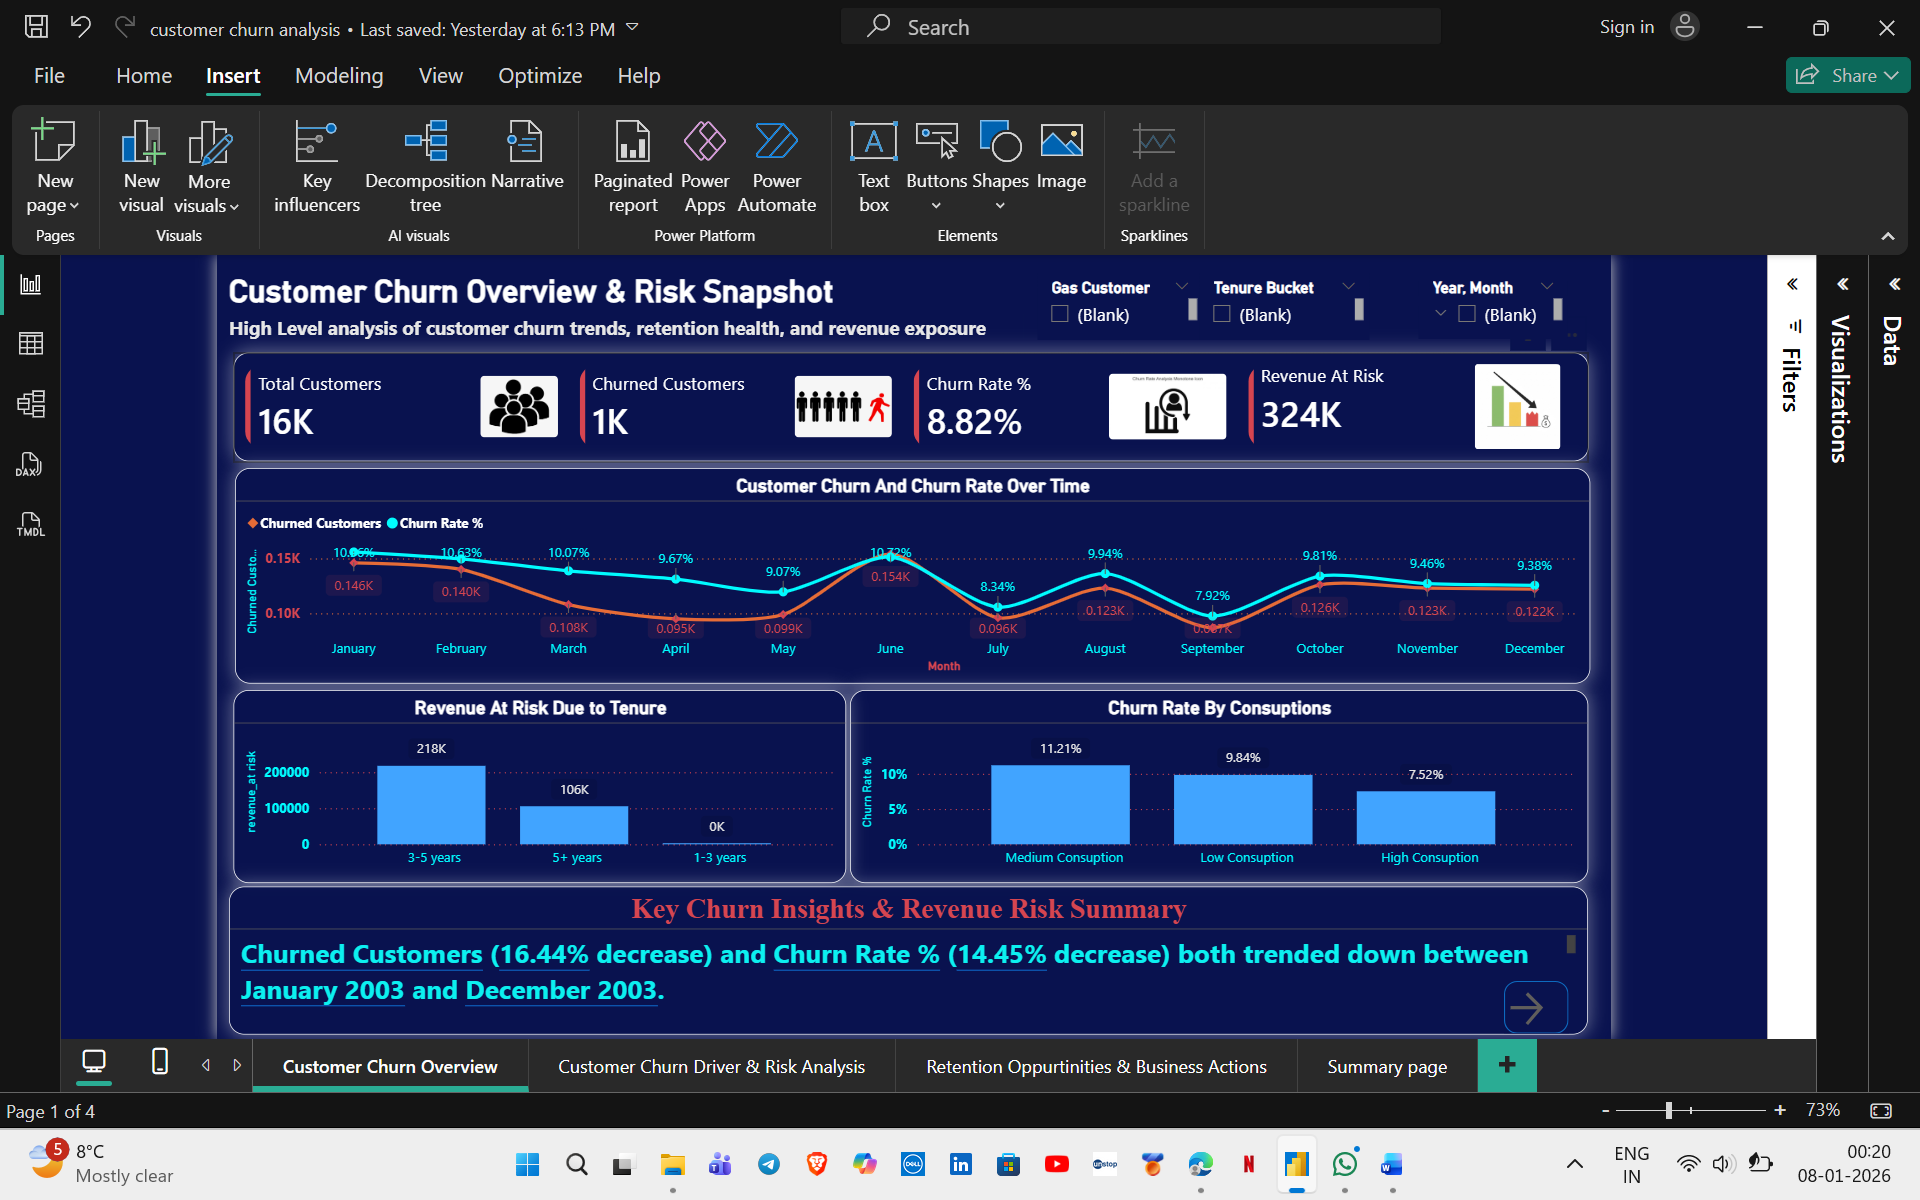

What the dashboard file says about the page in this screenshot:
{"tool":"powerbi","page":{"name":"Customer Churn Overview","canvas":[1280,720],"ordinal":0},"visuals":[{"type":"shape","title":"Customer Churn Overview  & Risk Snapshot","box":[10.6,16.7,729.8,60.6],"z":0},{"type":"cardVisual","fields":{"Data":["client_data.Total Customers","client_data.Churned Customers","client_data.Churn Rate %","client_data.revenue_at risk"]},"box":[15,90.2,1244.4,100.2],"z":1000},{"type":"slicer","fields":{"Values":["client_data.Gas Customer"]},"box":[754.1,16.7,151.4,60.6],"z":2000},{"type":"slicer","fields":{"Values":["client_data.Tenure Bucket"]},"box":[902.5,16.7,156,60.6],"z":3000},{"type":"lineChart","title":"Customer Churn And Churn Rate Over Time","fields":{"Category":["Calendar.Date.Variation.Date Hierarchy.Year","Calendar.Date.Variation.Date Hierarchy.Month"],"Y":["client_data.Churned Customers"],"Y2":["client_data.Churn Rate %"]},"box":[16.7,195,1244.4,198],"z":4000},{"type":"columnChart","title":"Churn Rate By Consuptions","fields":{"Y":["client_data.Churn Rate %"],"Category":["client_data.Consuption Bucket"]},"box":[581.3,399.2,678.1,177.1],"z":5000},{"type":"columnChart","title":"Revenue At Risk  Due to Tenure","fields":{"Category":["client_data.Tenure Bucket"],"Y":["client_data.revenue_at risk"]},"box":[15,399.2,562.9,177.1],"z":6000},{"type":"slicer","fields":{"Values":["Calendar.Date.Variation.Date Hierarchy.Year","Calendar.Date.Variation.Date Hierarchy.Month"]},"box":[1104.1,16.7,137,60.1],"z":7000},{"type":"textbox","title":"Key Churn Insights & Revenue Risk Summary","box":[11.7,580,1247.7,136],"z":8000},{"type":"shape","box":[1182,666.7,59.2,48.2],"z":9000},{"type":"actionButton","box":[1182,672.3,60.6,39.9],"z":10000}]}

Visuals, with their boxes on the page's 1280x720 design canvas (x1, y1, x2, y2). These are canvas units, not pixel positions in the 1920x1200 screenshot, which may show the page scaled, cropped or inside an application window:
"Customer Churn Overview  & Risk Snapshot" shape: left=11, top=17, right=740, bottom=77
cardVisual - client_data.Total Customers x client_data.Churned Customers: left=15, top=90, right=1259, bottom=190
slicer - client_data.Gas Customer: left=754, top=17, right=906, bottom=77
slicer - client_data.Tenure Bucket: left=902, top=17, right=1058, bottom=77
"Customer Churn And Churn Rate Over Time" lineChart: left=17, top=195, right=1261, bottom=393
"Churn Rate By Consuptions" columnChart: left=581, top=399, right=1259, bottom=576
"Revenue At Risk  Due to Tenure" columnChart: left=15, top=399, right=578, bottom=576
slicer - Calendar.Date.Variation.Date Hierarchy.Year x Calendar.Date.Variation.Date Hierarchy.Month: left=1104, top=17, right=1241, bottom=77
"Key Churn Insights & Revenue Risk Summary" textbox: left=12, top=580, right=1259, bottom=716
shape: left=1182, top=667, right=1241, bottom=715
actionButton: left=1182, top=672, right=1243, bottom=712
